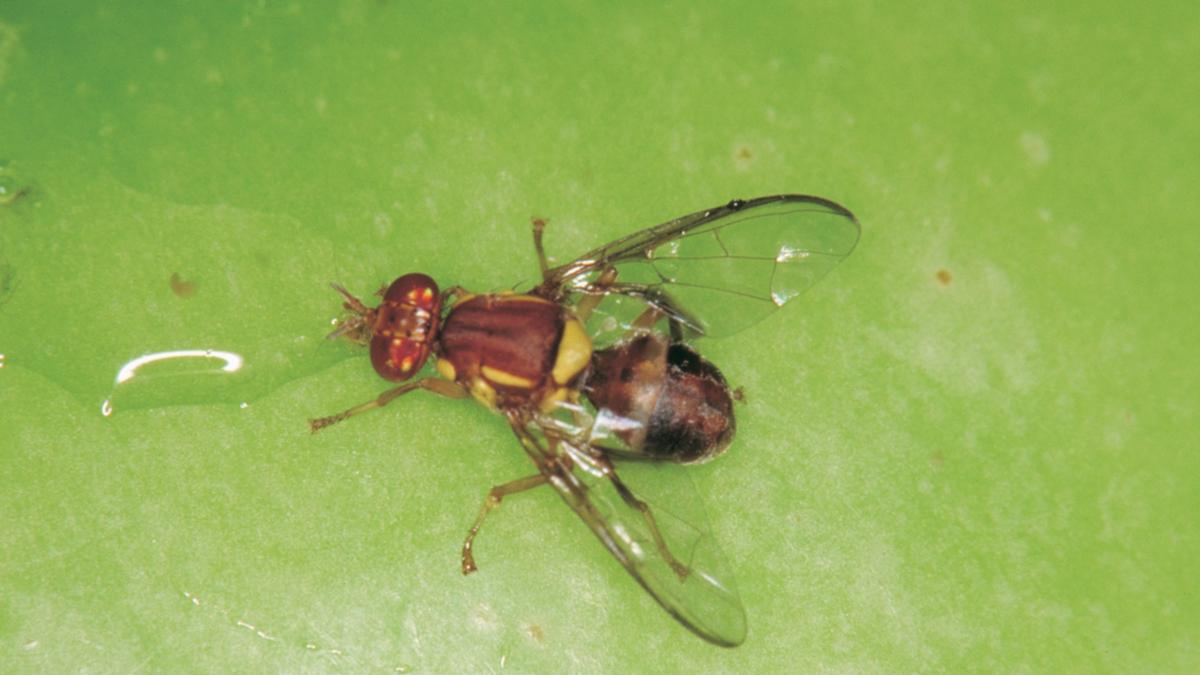Fruit fly: (293, 125, 887, 659)
